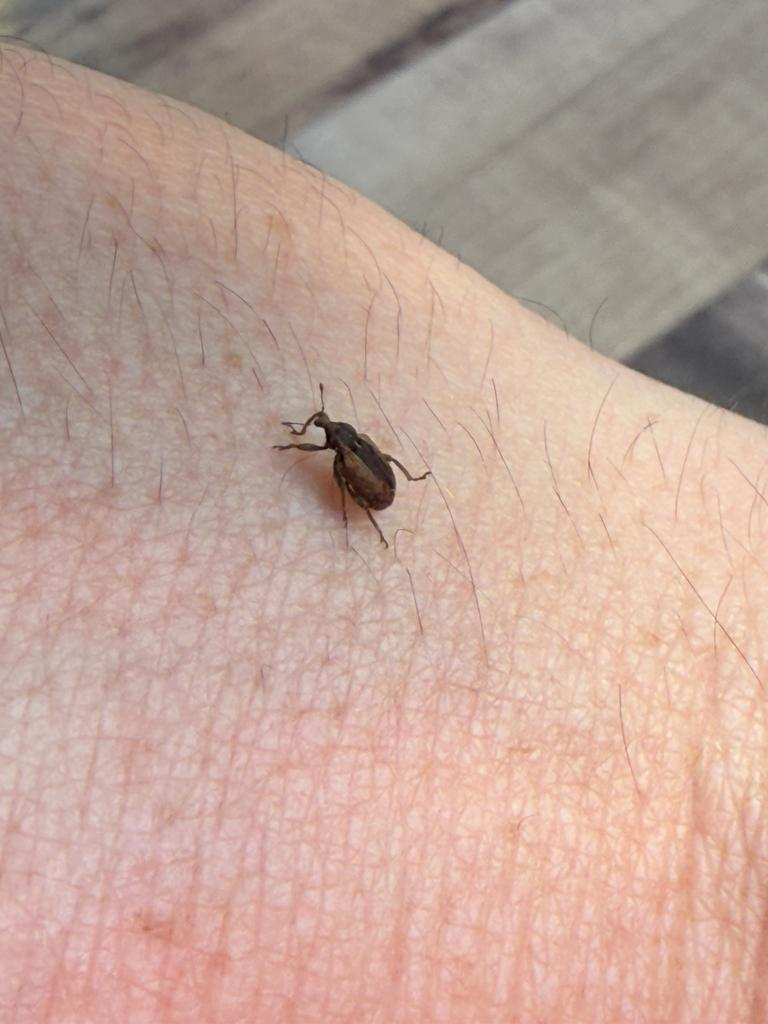weevils: (243, 356, 476, 577)
